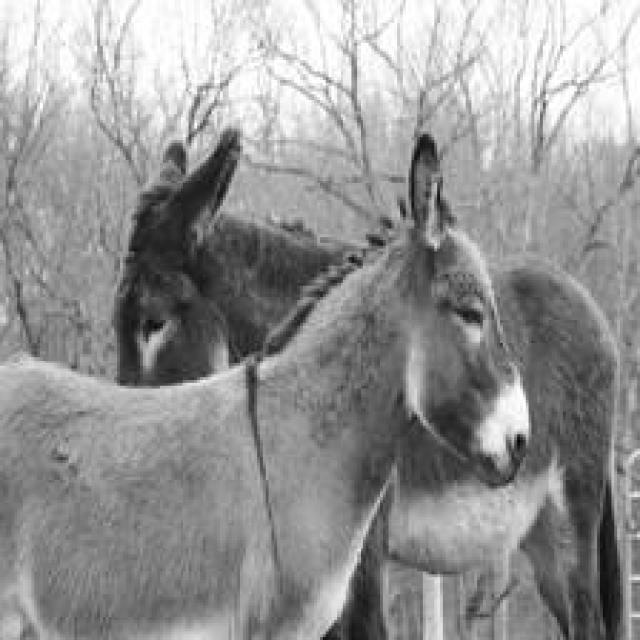Donkey: (109, 126, 628, 637)
